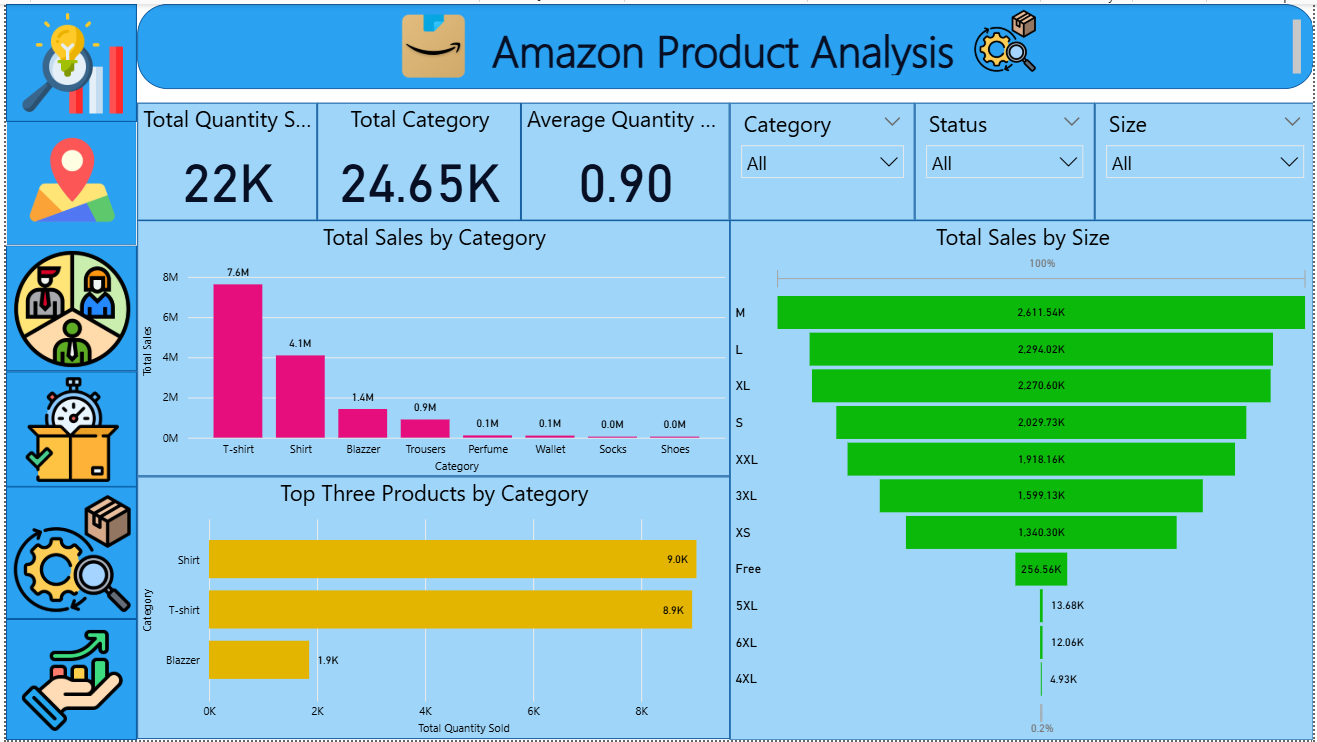

Layout of this report page (visuals, bound fields, positions):
{"tool":"powerbi","page":{"name":"Product Analysis","canvas":[1280,720],"ordinal":1},"visuals":[{"type":"textbox","box":[128.4,0,1151.9,83.2],"z":0},{"type":"image","box":[0,236,128.4,123.5],"z":1000},{"type":"image","box":[0,106.4,128.4,129.6],"z":2000},{"type":"image","box":[0,359.5,128.4,112.5],"z":3000},{"type":"image","box":[0,601.6,128.4,118.6],"z":4000},{"type":"image","box":[0,0,128.4,114.9],"z":5000},{"type":"image","box":[0,472,128.4,129.6],"z":6000},{"type":"image","box":[931.8,0,91.7,72.1],"z":7000},{"type":"funnel","fields":{"Category":["Amazon Sale Report.Size"],"Y":["Amazon Sale Report.Total Sales"]},"box":[708.1,211.3,572.2,509.1],"z":8000},{"type":"slicer","fields":{"Values":["Amazon Sale Report.Size"]},"box":[1064.8,96.1,215.4,115.3],"z":9000},{"type":"slicer","fields":{"Values":["Amazon Sale Report.Category"]},"box":[708,96.6,181,114.9],"z":10000},{"type":"slicer","fields":{"Values":["Amazon Sale Report.Status"]},"box":[889.2,96.1,175.6,115.3],"z":11000},{"type":"card","title":"Total Category","fields":{"Values":["CountNonNull(Amazon Sale Report.Category)"]},"box":[304.5,96.6,199.3,114.9],"z":12000},{"type":"card","title":"Average Quantity Sold","fields":{"Values":["Amazon Sale Report.Average Quantity Sold"]},"box":[503.8,96.6,204.2,114.9],"z":13000},{"type":"card","title":"Total Quantity Sold","fields":{"Values":["Amazon Sale Report.Total Quantity Sold"]},"box":[128.4,96.6,176.1,114.9],"z":14000},{"type":"clusteredColumnChart","fields":{"Y":["Amazon Sale Report.Total Sales"],"Category":["Amazon Sale Report.Category"]},"box":[128.4,211.6,579.6,250.7],"z":15000},{"type":"clusteredBarChart","title":"Top Three Products by Category","fields":{"Y":["Amazon Sale Report.Total Quantity Sold"],"Category":["Amazon Sale Report.Category"]},"box":[128.4,462.2,579.6,256.8],"z":16000},{"type":"image","box":[352.2,0,132.1,83.2],"z":17000}]}

Visuals, with their boxes in screenshot pixels (x1, y1, x2, y2), scaled from the page's 1280x720 canvas onto the 1317x742 screenshot:
textbox: [left=132, top=0, right=1316, bottom=86]
image: [left=0, top=243, right=132, bottom=370]
image: [left=0, top=110, right=132, bottom=243]
image: [left=0, top=370, right=132, bottom=486]
image: [left=0, top=620, right=132, bottom=741]
image: [left=0, top=0, right=132, bottom=118]
image: [left=0, top=486, right=132, bottom=620]
image: [left=959, top=0, right=1053, bottom=74]
funnel - Amazon Sale Report.Size x Amazon Sale Report.Total Sales: [left=729, top=218, right=1316, bottom=741]
slicer - Amazon Sale Report.Size: [left=1096, top=99, right=1316, bottom=218]
slicer - Amazon Sale Report.Category: [left=728, top=100, right=915, bottom=218]
slicer - Amazon Sale Report.Status: [left=915, top=99, right=1096, bottom=218]
"Total Category" card: [left=313, top=100, right=518, bottom=218]
"Average Quantity Sold" card: [left=518, top=100, right=728, bottom=218]
"Total Quantity Sold" card: [left=132, top=100, right=313, bottom=218]
clusteredColumnChart - Amazon Sale Report.Total Sales x Amazon Sale Report.Category: [left=132, top=218, right=728, bottom=476]
"Top Three Products by Category" clusteredBarChart: [left=132, top=476, right=728, bottom=741]
image: [left=362, top=0, right=498, bottom=86]
